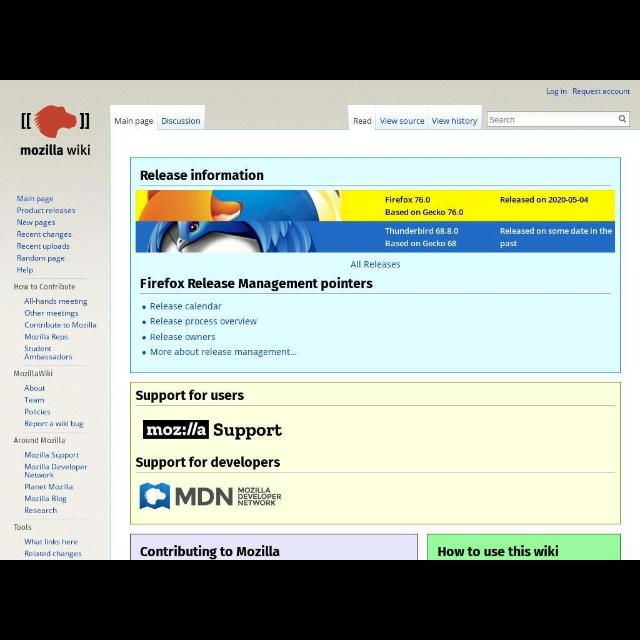icon: (618, 115, 626, 124), (142, 304, 146, 310), (142, 318, 146, 324), (142, 334, 146, 340), (142, 350, 146, 354)
image: (137, 188, 615, 252), (36, 104, 78, 138), (144, 419, 208, 438), (140, 484, 170, 510)
input: (488, 111, 630, 127)
multitab: (348, 105, 479, 128)
text: (140, 276, 374, 292), (140, 168, 264, 184), (135, 456, 281, 468), (438, 544, 560, 558), (139, 546, 281, 558), (150, 348, 298, 358), (148, 314, 258, 326), (214, 422, 282, 441), (175, 488, 233, 507), (136, 391, 244, 401), (24, 463, 88, 479), (20, 144, 90, 158), (238, 487, 280, 507), (149, 302, 223, 312), (22, 346, 74, 360), (24, 418, 84, 430), (150, 332, 217, 342), (24, 297, 90, 307), (350, 258, 402, 270), (15, 283, 76, 293), (572, 88, 632, 98), (24, 321, 98, 329), (16, 230, 74, 240), (24, 550, 82, 560), (23, 450, 79, 460), (16, 207, 76, 216), (17, 242, 71, 252), (26, 309, 80, 319), (23, 482, 75, 492), (16, 254, 66, 264), (379, 117, 426, 127), (24, 332, 70, 342), (24, 494, 70, 504), (13, 436, 67, 444), (430, 116, 478, 125), (13, 369, 52, 379), (23, 538, 78, 544), (17, 195, 55, 203), (18, 219, 56, 227), (114, 118, 152, 126), (23, 506, 59, 514), (23, 408, 51, 418), (488, 114, 514, 124), (160, 118, 202, 124), (546, 88, 568, 98), (24, 394, 44, 404), (353, 116, 373, 126), (13, 522, 32, 532), (16, 265, 34, 275), (24, 384, 46, 392)
